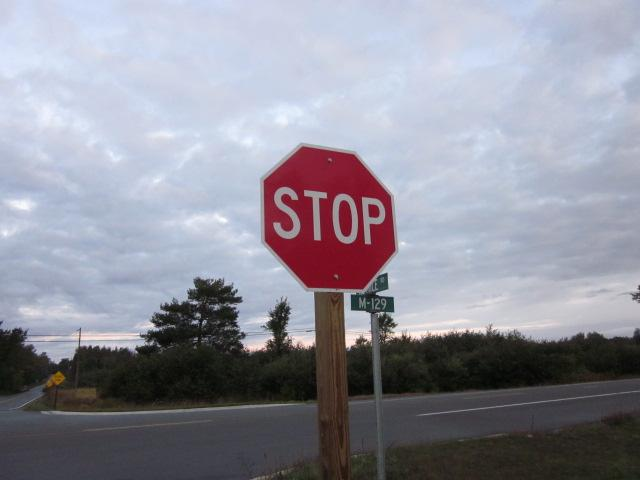stop: (259, 144, 401, 299)
